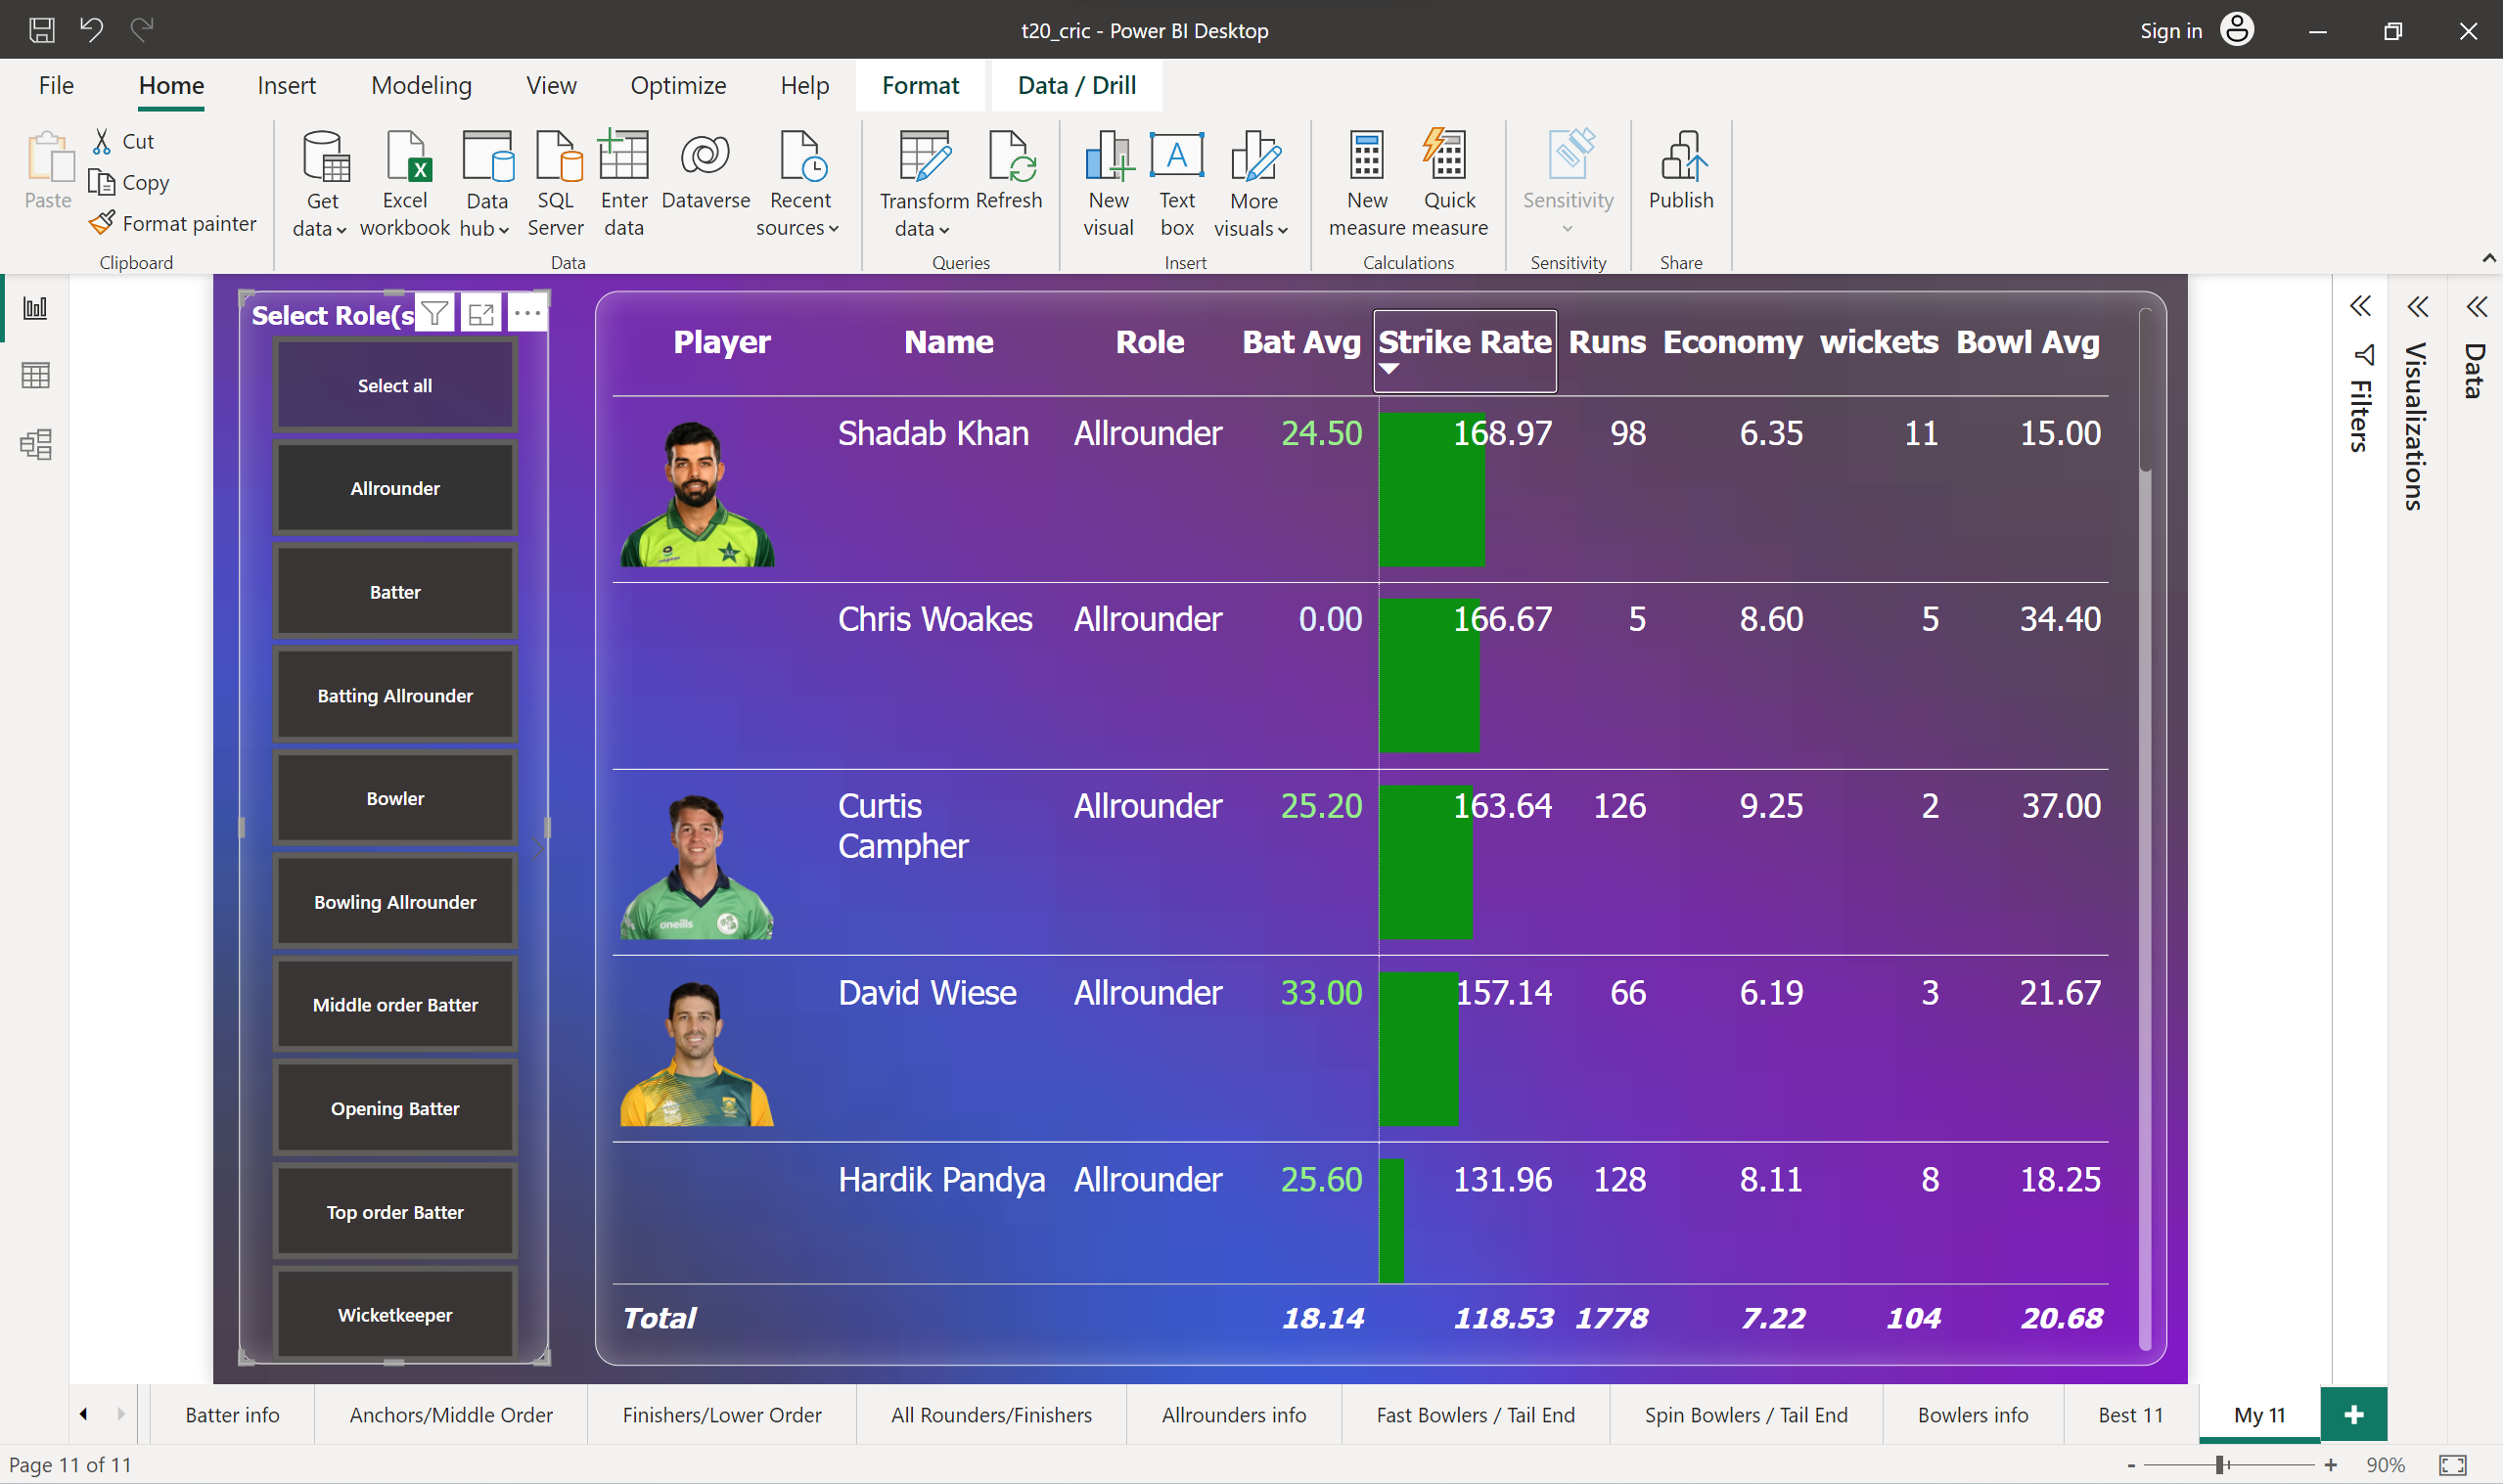

The dashboard page shown, as its layout file describes it:
{"tool":"powerbi","page":{"name":"My 11","canvas":[1280,720],"ordinal":10},"visuals":[{"type":"slicer","fields":{"Values":["dim_players.playingRole"]},"box":[17,10.8,200.7,696.2],"z":0},{"type":"tableEx","fields":{"Values":["dim_players.image","dim_players.name","dim_players.playingRole","Key_measures.Batting Avg","Key_measures.Strike rate","Key_measures.Total Runs","Key_measures.Economy","Key_measures.wickets","Key_measures.Bowling Average"]},"box":[248,10.7,1019.6,697],"z":2000}]}

Visuals, with their boxes on the page's 1280x720 design canvas (x1, y1, x2, y2). These are canvas units, not pixel positions in the 2503x1484 screenshot, which may show the page scaled, cropped or inside an application window:
slicer - dim_players.playingRole: [x1=17, y1=11, x2=218, y2=707]
tableEx - dim_players.image x dim_players.name: [x1=248, y1=11, x2=1268, y2=708]
